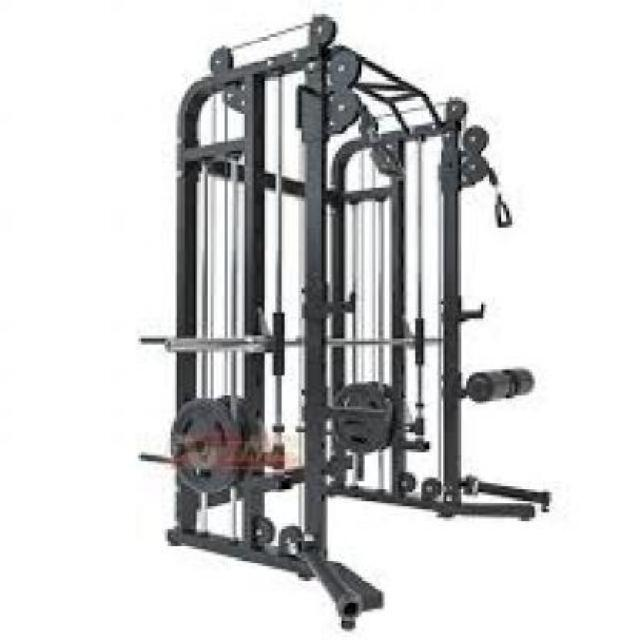smith machine: (138, 11, 554, 631)
